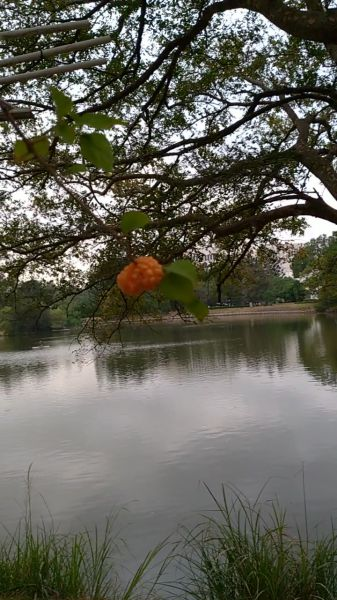eggs: (113, 251, 168, 298)
